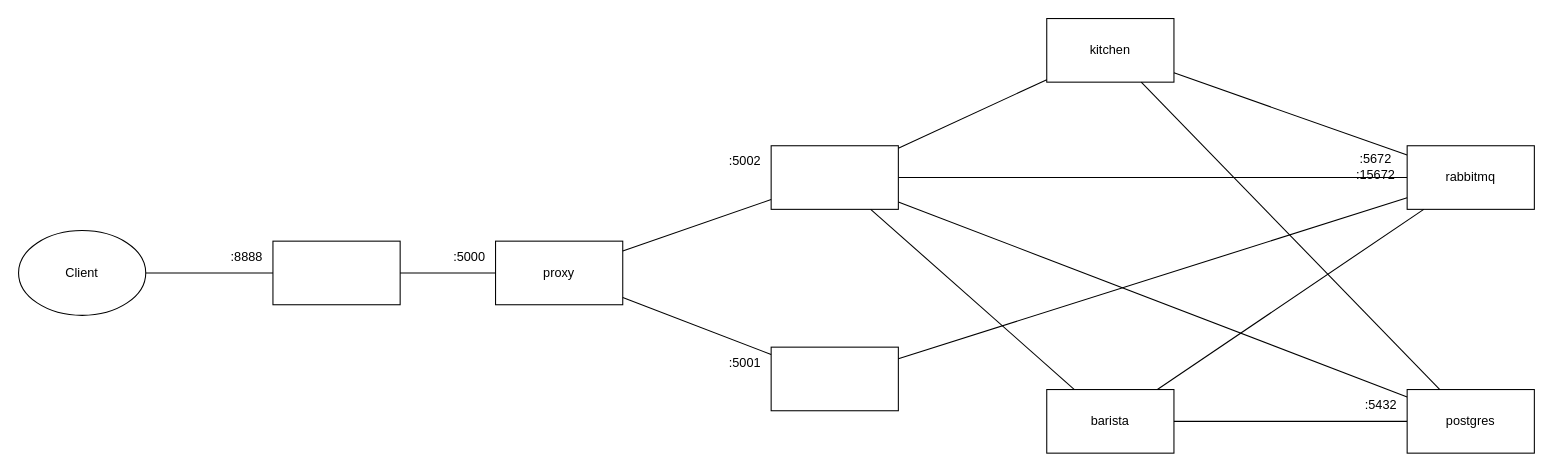
Image size: 1553x472. Some labels were removed from this diagram. Here are the shapes that lost their labels. From the top down, the centre of each, then its label:
the point at 834,177: counter
the point at 336,272: web
the point at 834,378: product
